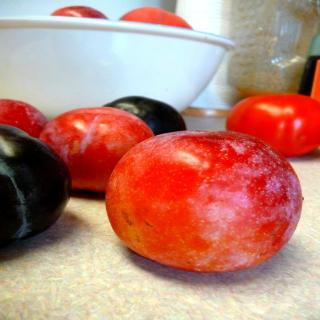tomato: (94, 124, 289, 272), (38, 106, 155, 192), (226, 92, 320, 158), (0, 98, 48, 135), (120, 8, 194, 30), (48, 6, 108, 20)
